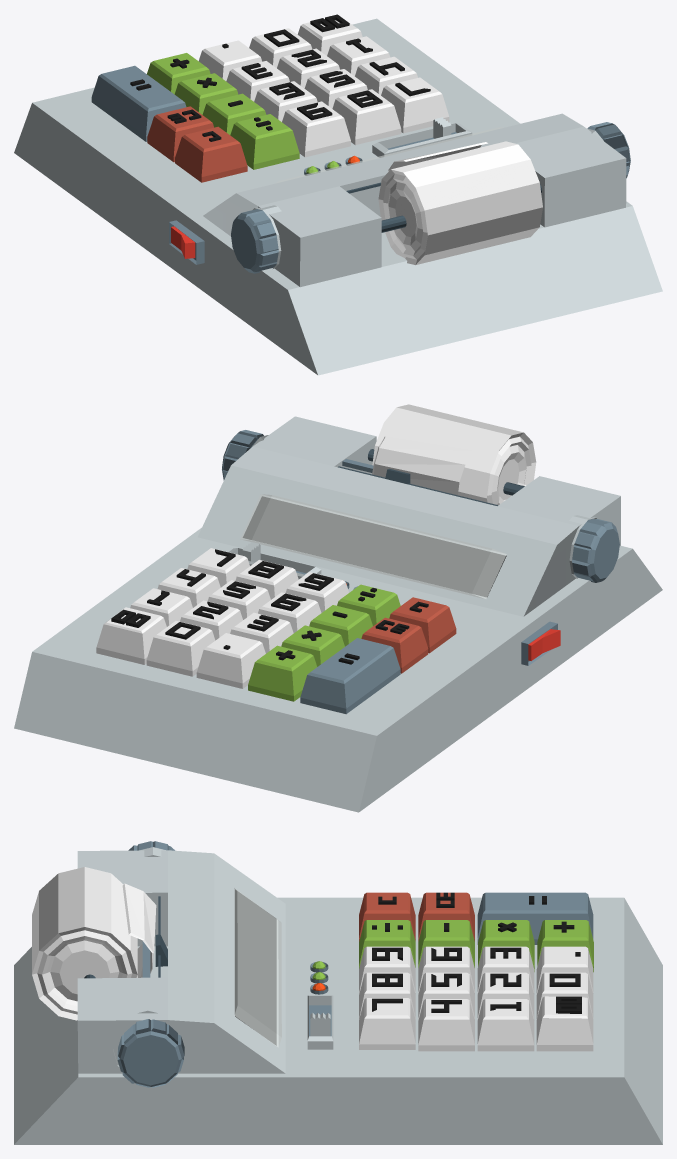
3 renders of one model, top to bottom at view 1: azimuth 30°, elevation 25°; view 2: azimuth 150°, elevation 25°; view 3: azimuth 270°, elevation 25°, orthographic. The views are drawn at different scales.
Parts seen in each view (by area): view 1: group1466548647, group48887536, group1325531539, group23065195, group389477461003, group1297306164, group502161026, group1294525603, group2058303266, group595121944, group389477461002, group2033548222 (+15 smaller); view 2: group1466548647, group48887536, group127134564, group1325531539, group23065195, group1065846868, group2033548222, group454468518, group389477461001, group595121944, group1280017540, group389477461003 (+16 smaller); view 3: group1466548647, group48887536, group1325531539, group127134564, group74567260, group23065195, group2033548222, group1296408862, group1587545857, group2058303266, group1065846868, group454468518 (+15 smaller).
Boxes of the visible parts, bbox=[...] form: group1466548647: bbox=[14, 18, 662, 375]; group48887536: bbox=[203, 113, 626, 287]; group1325531539: bbox=[378, 141, 542, 265]; group23065195: bbox=[91, 65, 186, 141]; group389477461003: bbox=[175, 126, 247, 182]; group1297306164: bbox=[282, 101, 350, 157]; group502161026: bbox=[332, 89, 401, 145]; group1294525603: bbox=[230, 114, 299, 169]; group2058303266: bbox=[381, 77, 449, 133]; group595121944: bbox=[231, 209, 278, 273]; group389477461002: bbox=[147, 106, 213, 162]; group2033548222: bbox=[297, 14, 362, 55]; group1466548647: bbox=[14, 527, 662, 812]; group48887536: bbox=[198, 416, 620, 616]; group127134564: bbox=[240, 494, 506, 598]; group1325531539: bbox=[372, 404, 536, 505]; group23065195: bbox=[300, 638, 400, 714]; group1065846868: bbox=[372, 436, 473, 495]; group2033548222: bbox=[96, 607, 166, 664]; group454468518: bbox=[196, 633, 265, 688]; group389477461001: bbox=[248, 645, 316, 701]; group595121944: bbox=[572, 519, 619, 582]; group1280017540: bbox=[146, 621, 215, 676]; group389477461003: bbox=[389, 597, 456, 653]; group1466548647: bbox=[14, 897, 662, 1144]; group48887536: bbox=[77, 850, 285, 1073]; group1325531539: bbox=[32, 867, 137, 1020]; group127134564: bbox=[234, 888, 281, 1047]; group74567260: bbox=[117, 1019, 184, 1087]; group23065195: bbox=[477, 892, 593, 944]; group2033548222: bbox=[536, 996, 593, 1051]; group1296408862: bbox=[477, 999, 534, 1051]; group1587545857: bbox=[418, 999, 474, 1051]; group2058303266: bbox=[359, 998, 415, 1049]; group1065846868: bbox=[122, 883, 156, 977]; group454468518: bbox=[536, 946, 593, 994].
Bounding box in the file's own units: 1.81 × 0.7031 × 2.52.
